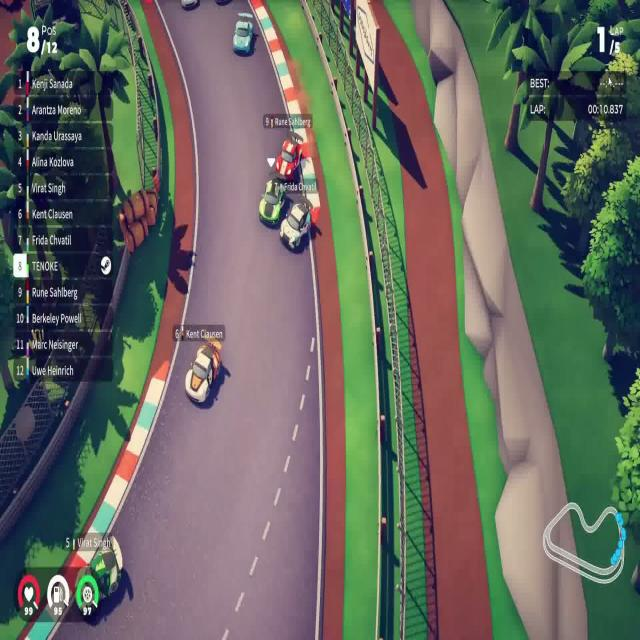car: (184, 339, 222, 404), (279, 200, 312, 252), (258, 177, 285, 227), (274, 136, 303, 182), (232, 18, 254, 56)
